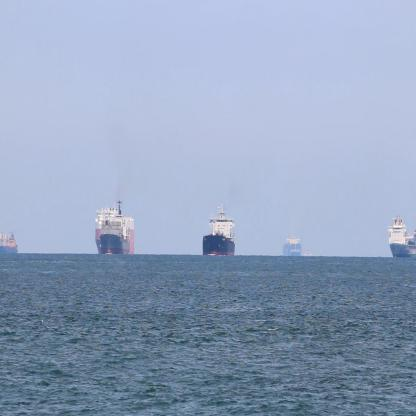Container Ship: (95, 193, 136, 257), (202, 194, 236, 260), (388, 210, 415, 259), (283, 231, 304, 259), (0, 226, 18, 252), (302, 247, 314, 258)
